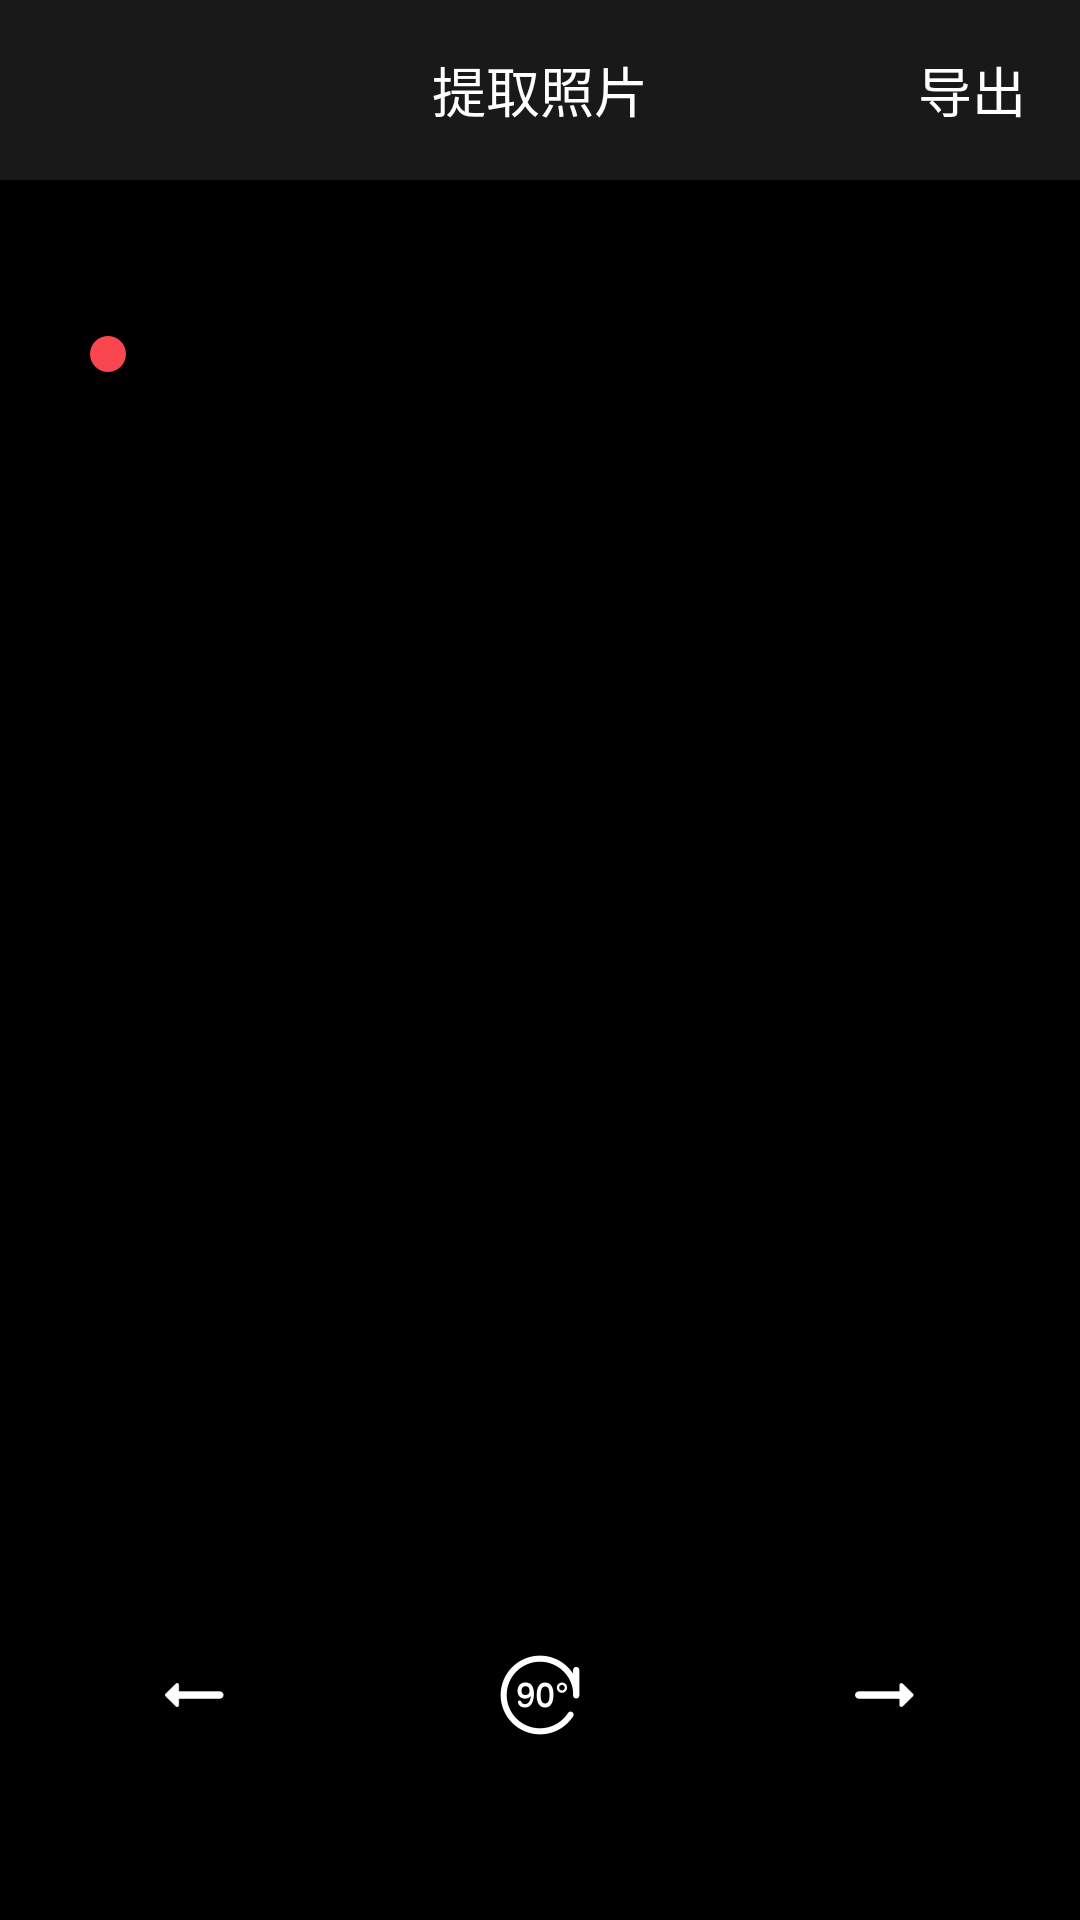

Point at icon controls on the screen. Image size 1080w x 1920h, points as point (x, y).
next: point (884, 1695)
previous: point (194, 1695)
rotate: point (540, 1695)
